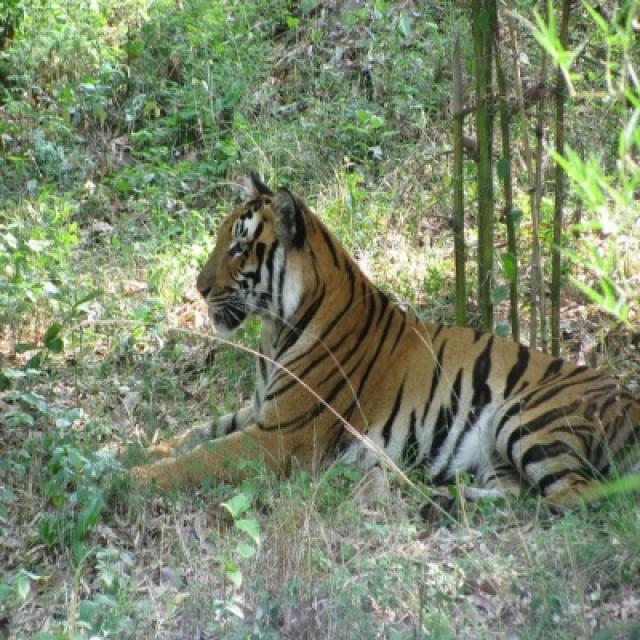Tiger: (138, 170, 638, 503)
